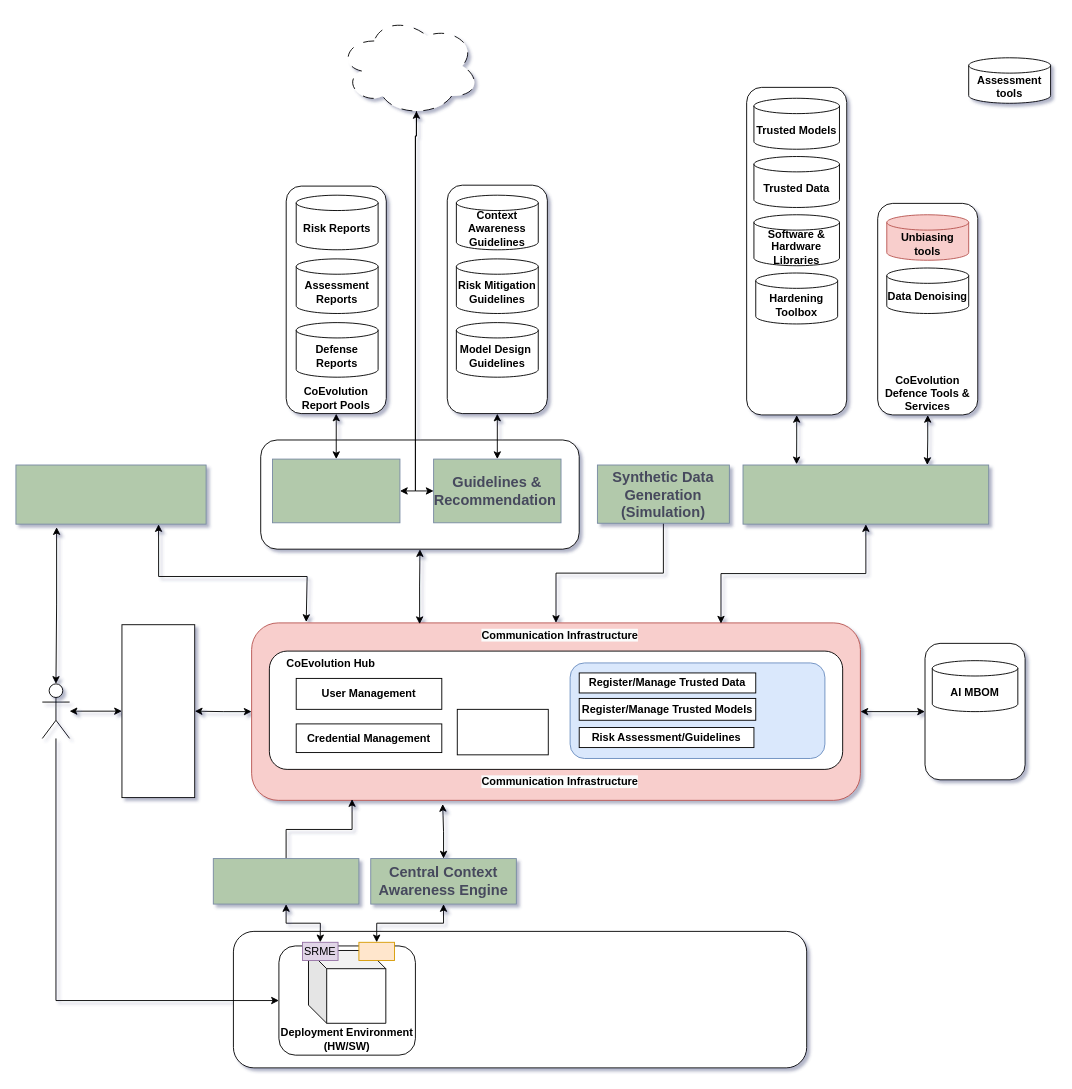
Image size: 1072x1089. Some labels were removed from this diagram. Each missing label, with the box of its shape:
AI Security Runtime Monitoring Engine: (212, 858, 359, 904)
AI Standardization Guidelines (CVE/CWE): (338, 15, 480, 116)
CDS: (358, 941, 394, 961)
CoEvolution Dashboard: (121, 624, 195, 798)
CoEvolution Knowledge Pool: (446, 184, 547, 414)
CoEvolution Security Assurance Pool: (924, 642, 1025, 780)
CoEvolution Security, Trust, Robustness Defence Engine: (742, 464, 989, 524)
CoEvolution Toolbox: (746, 86, 847, 415)
Deployed Models: (308, 950, 386, 1023)
Orchestrator: (456, 708, 548, 755)
Pilots: (233, 930, 807, 1068)
RAGRE: (260, 439, 579, 549)
Risk Assessment: (272, 458, 400, 523)
Security Testing/Assessment Engine: (15, 464, 206, 524)
Services: (569, 662, 825, 758)
